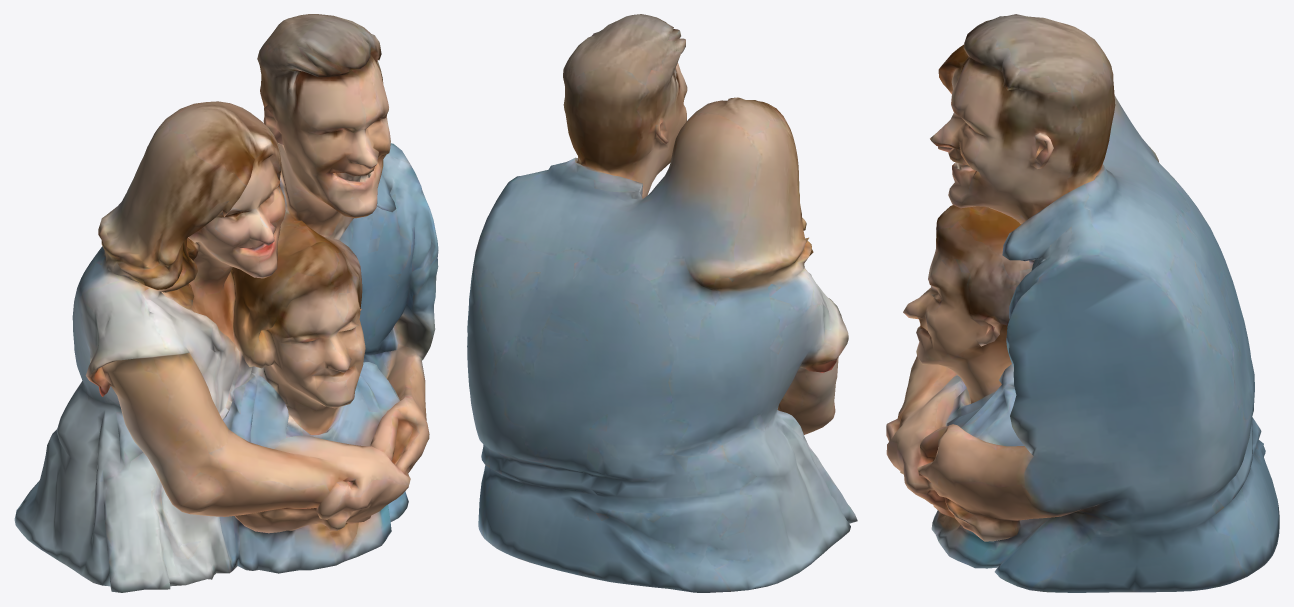
The model's file is 22_photo_frame.glb.
3 renders of one model, left to right at view 1: azimuth 30°, elevation 25°; view 2: azimuth 150°, elevation 25°; view 3: azimuth 270°, elevation 25°, orthographic. The views are drawn at different scales.
Visible parts, largest first — view 1: geometry_0; view 2: geometry_0; view 3: geometry_0.
Part boxes in pixels (left/top/right/bottom): geometry_0: left=14, top=14, right=438, bottom=592; geometry_0: left=467, top=14, right=857, bottom=592; geometry_0: left=886, top=14, right=1279, bottom=592.
Bounding box in the file's own units: 1.36 × 1.9 × 1.28.
1 material, 1 textured.
